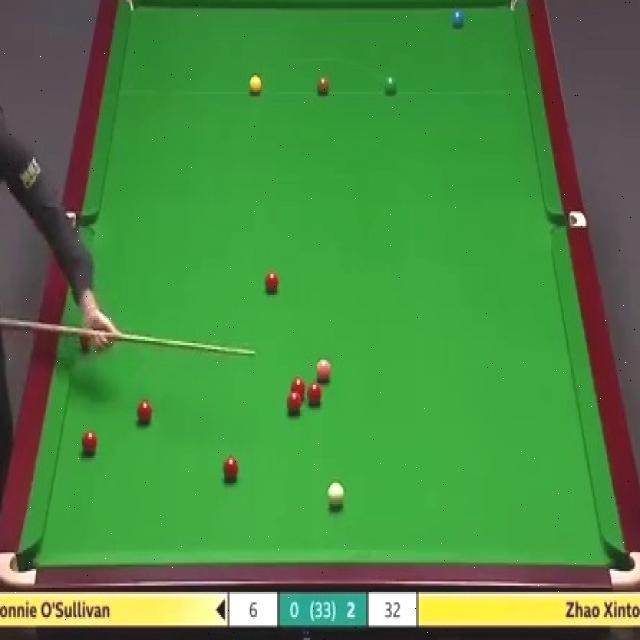blue-ball: (450, 4, 466, 30)
brown-ball: (316, 76, 331, 98)
green-ball: (383, 75, 398, 98)
pink-ball: (313, 358, 332, 384)
red-ball: (80, 429, 98, 458), (136, 401, 152, 429), (222, 456, 239, 482), (264, 270, 281, 295), (78, 327, 94, 353), (289, 378, 307, 400), (306, 382, 323, 405), (286, 392, 302, 416)
white-ball: (326, 478, 346, 510)
yellow-ball: (248, 75, 262, 96)
